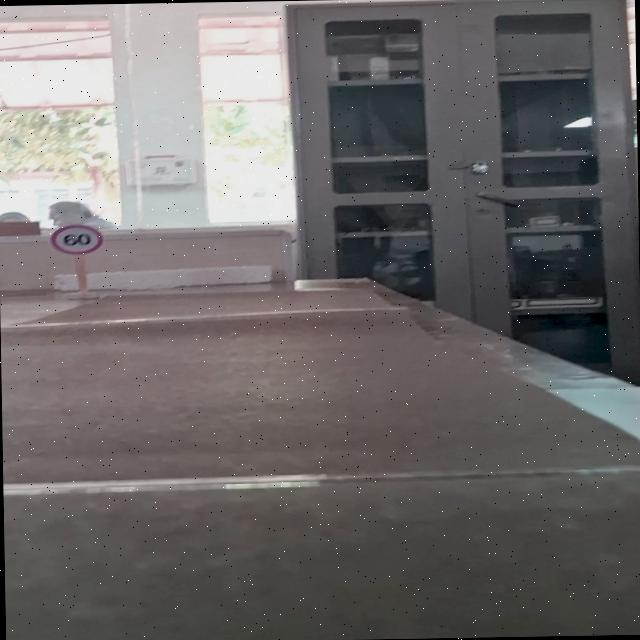Speed60: (48, 223, 104, 255)
